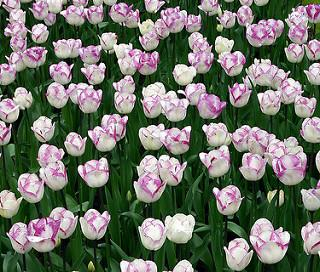tulip: (250, 218, 290, 264), (274, 144, 307, 185), (25, 217, 62, 251), (78, 156, 111, 188), (199, 145, 230, 178), (133, 172, 167, 202), (160, 123, 192, 154), (213, 184, 245, 215), (80, 208, 110, 241), (138, 217, 166, 251), (239, 150, 268, 182), (225, 237, 252, 271), (164, 214, 195, 243), (159, 155, 187, 186), (16, 174, 47, 202), (88, 125, 119, 151), (40, 160, 68, 188), (198, 93, 226, 120), (138, 122, 164, 151), (201, 121, 232, 145), (218, 50, 246, 76), (133, 50, 162, 75), (300, 221, 320, 256), (75, 87, 103, 112), (0, 189, 23, 219), (255, 90, 282, 115), (31, 116, 55, 143), (163, 97, 189, 121), (227, 81, 251, 107), (64, 131, 89, 155), (189, 49, 214, 73), (44, 83, 69, 107), (140, 94, 165, 117), (293, 94, 316, 118), (22, 46, 47, 68), (48, 62, 74, 83), (169, 64, 195, 85), (80, 64, 107, 83), (0, 99, 20, 123), (52, 37, 74, 58), (114, 91, 135, 112), (285, 43, 302, 62)
